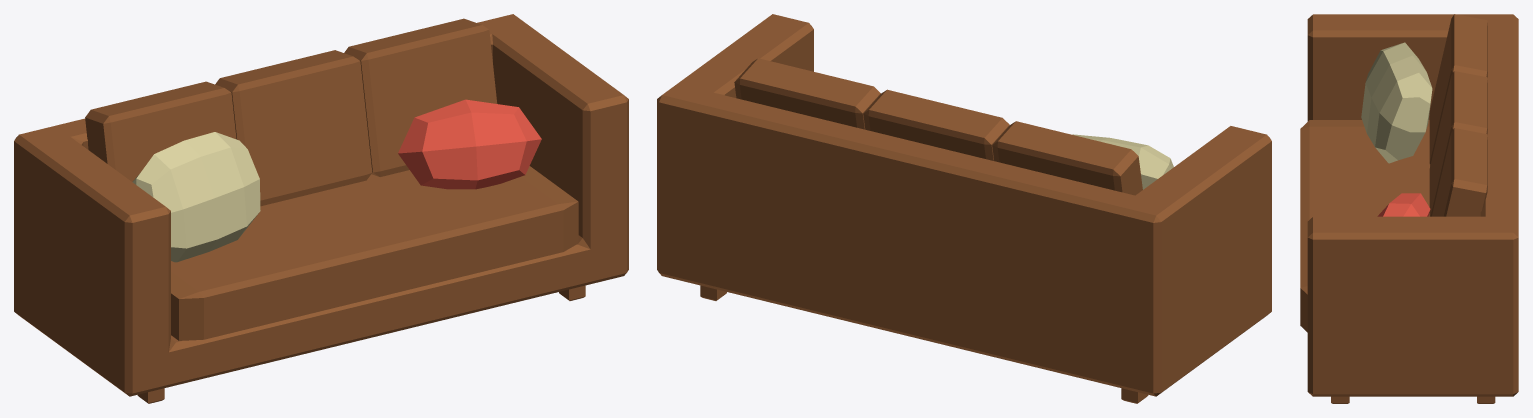
File: sofa.fbx
3 views of the same model, side by side, from view 1: azimuth 30°, elevation 25°; view 2: azimuth 150°, elevation 25°; view 3: azimuth 270°, elevation 25° (orthographic). The views are drawn at different scales.
Parts seen in each view (by area): view 1: Sofa; view 2: Sofa; view 3: Sofa.
Boxes of the visible parts, x1,y1,x2,y2 form: Sofa: [14, 14, 628, 403]; Sofa: [657, 14, 1271, 403]; Sofa: [1300, 14, 1518, 403].
Size of the model in its own units: 200 by 88.01 by 82.81.
